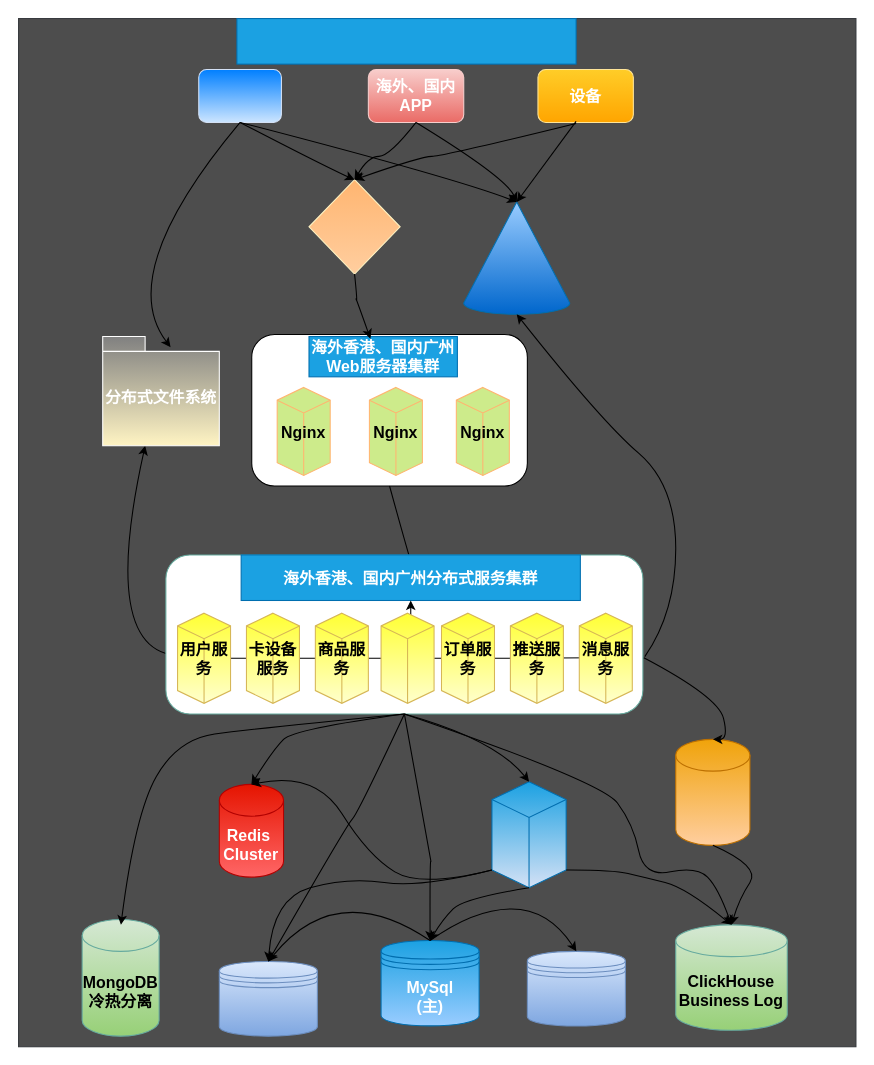
The diagram is 874 pixels wide and 1065 high, and some of its shapes have lost their labels. The shapes that lost their labels are listed below. From the top down, each one's box as (x1, y1, x2, y2) in pixels, then its label:
(236, 17, 576, 64): 整体应用 架构 模型
(198, 68, 281, 122): WEB
(308, 179, 400, 274): 负载均衡
(463, 201, 570, 314): CDN Flow
(380, 612, 434, 703): 营销服务
(675, 738, 750, 845): Message Queue Cluster
(491, 781, 566, 888): 跑批任务
(218, 960, 317, 1036): MySql (从)
(526, 950, 625, 1026): MySql (备)
